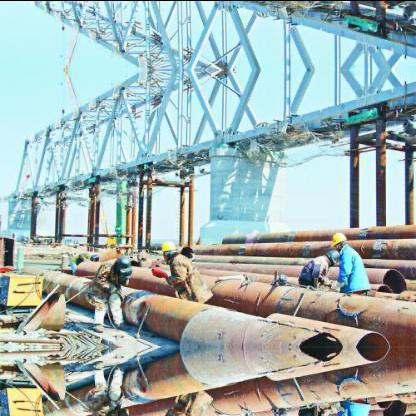Helmet: (158, 237, 174, 261), (330, 230, 348, 248)
